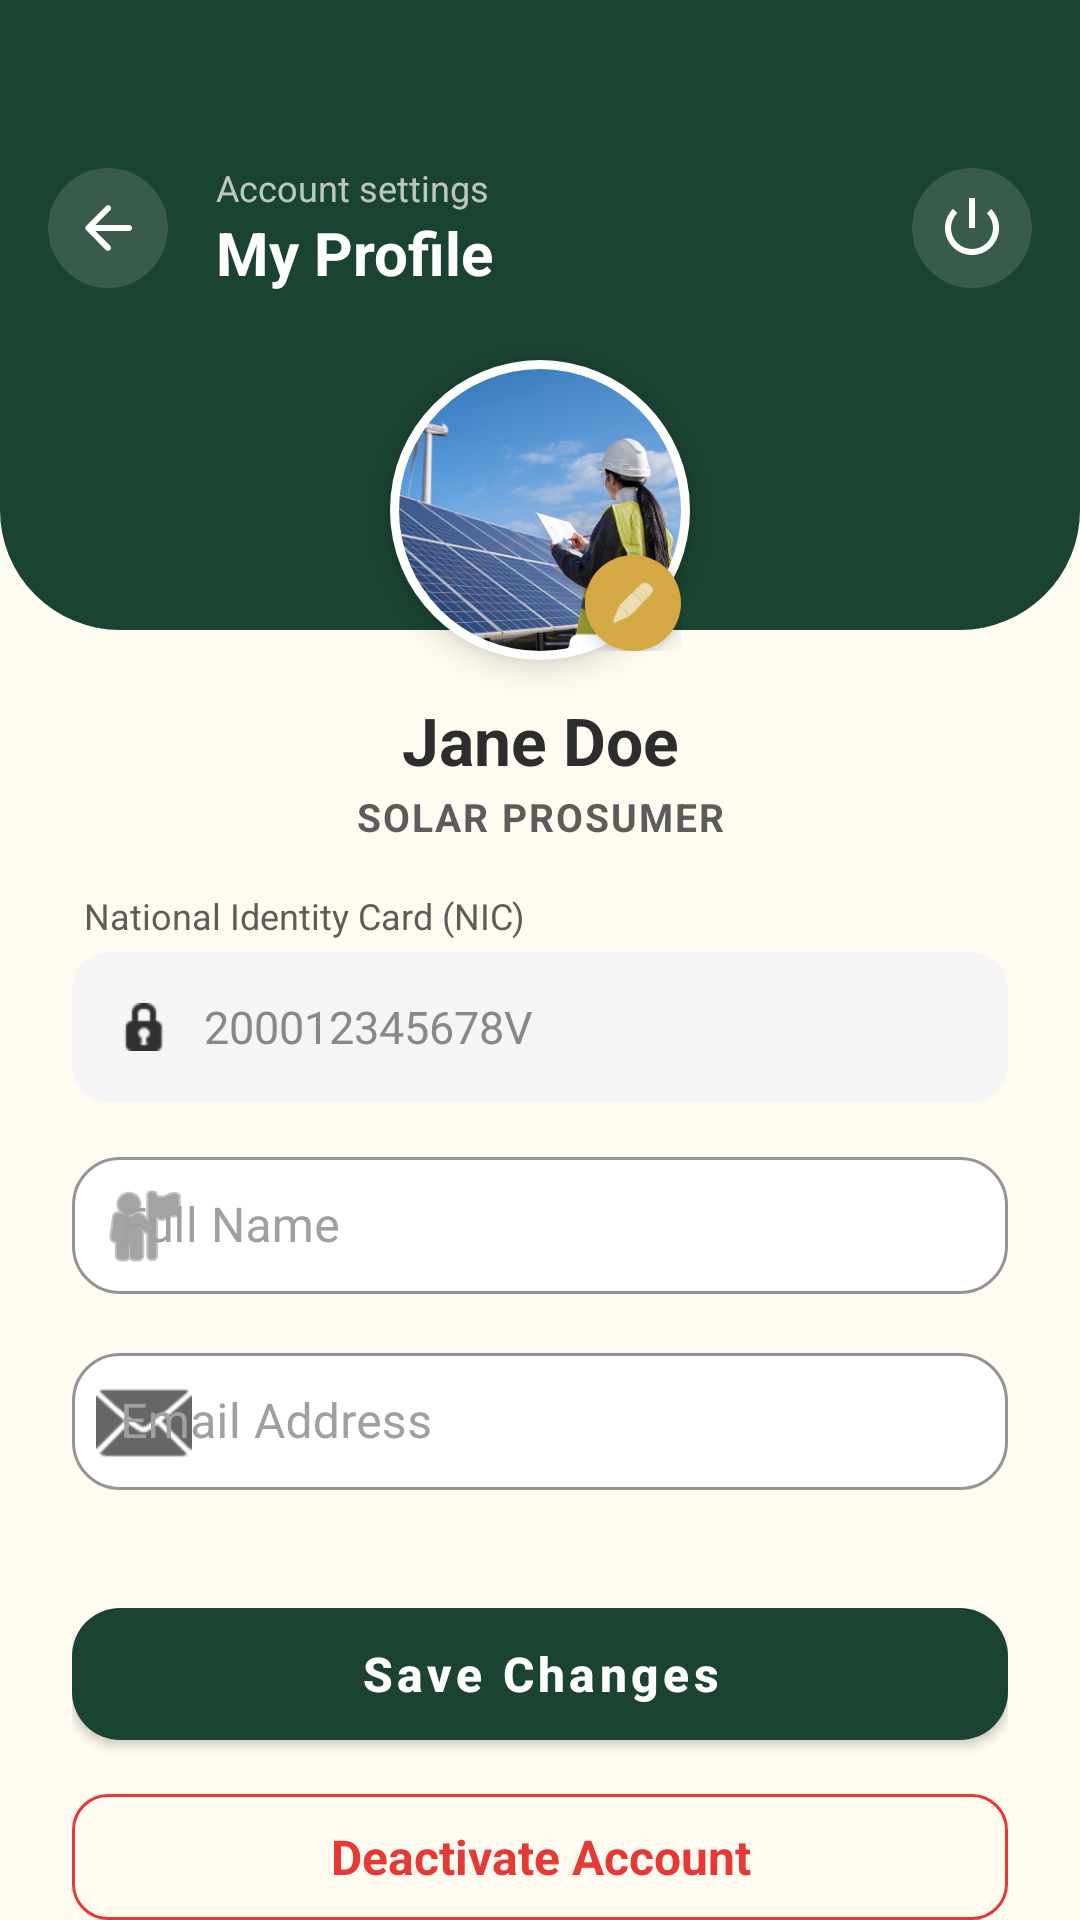

Where to tap for icons on this 1080*1920 app screen, as [x,y]:
lock power off: [972,228]
